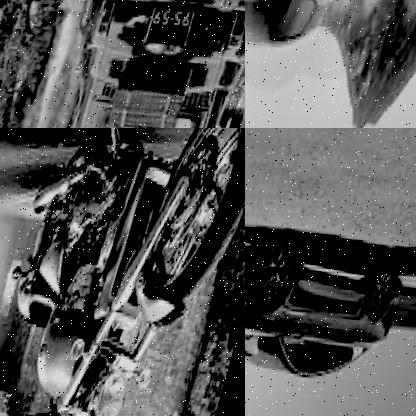bike: (0, 128, 245, 416)
car: (245, 212, 416, 397), (36, 0, 245, 128), (245, 0, 379, 61)
